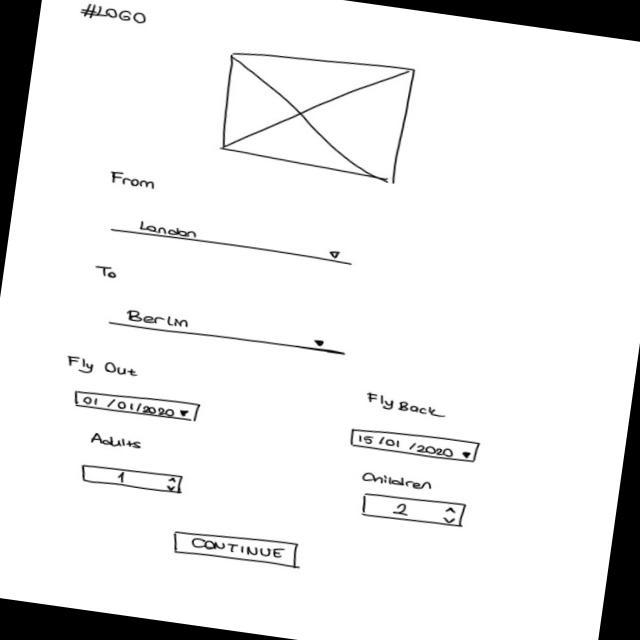button: (169, 524, 303, 573)
image: (214, 42, 420, 187)
label: (362, 391, 450, 422), (63, 352, 141, 382), (77, 0, 151, 28), (358, 470, 436, 492), (86, 429, 144, 452), (106, 168, 160, 192), (91, 260, 123, 282)
number-input: (358, 488, 470, 532), (79, 459, 186, 496)
select: (107, 304, 350, 359), (108, 215, 357, 267), (348, 424, 483, 466), (71, 384, 203, 426)
